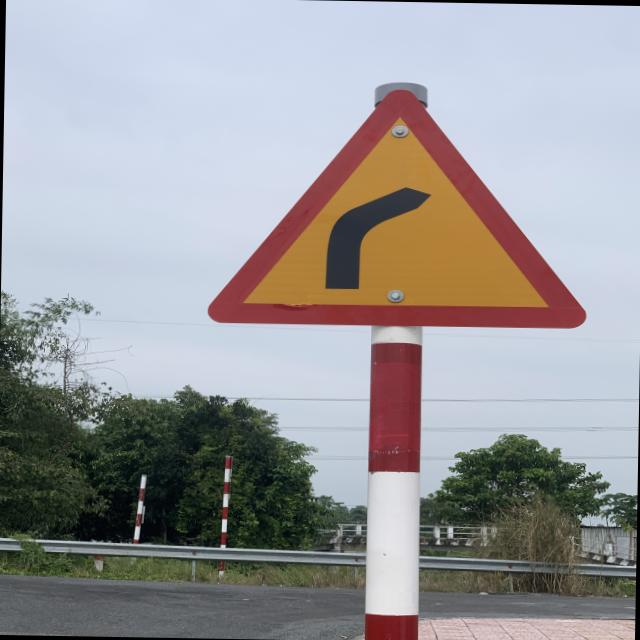Duong_Nguoi_Di_Bo_Cat_Ngang: (206, 82, 594, 328)
